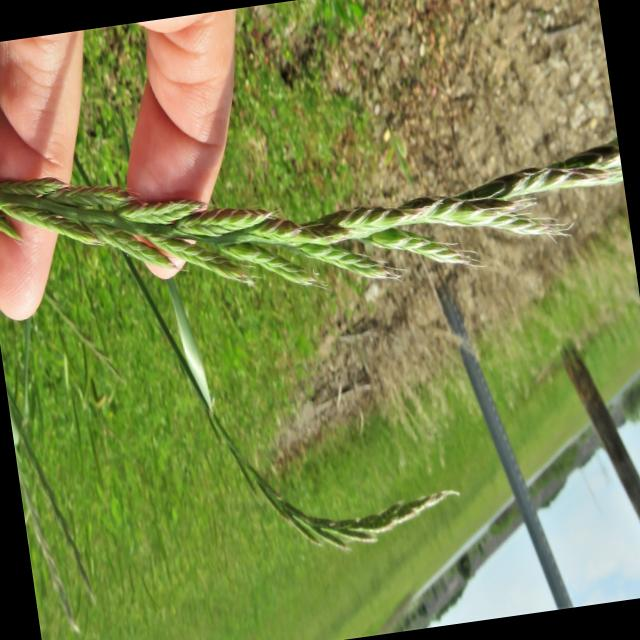Lolium: (0, 77, 640, 604), (0, 86, 632, 343)
